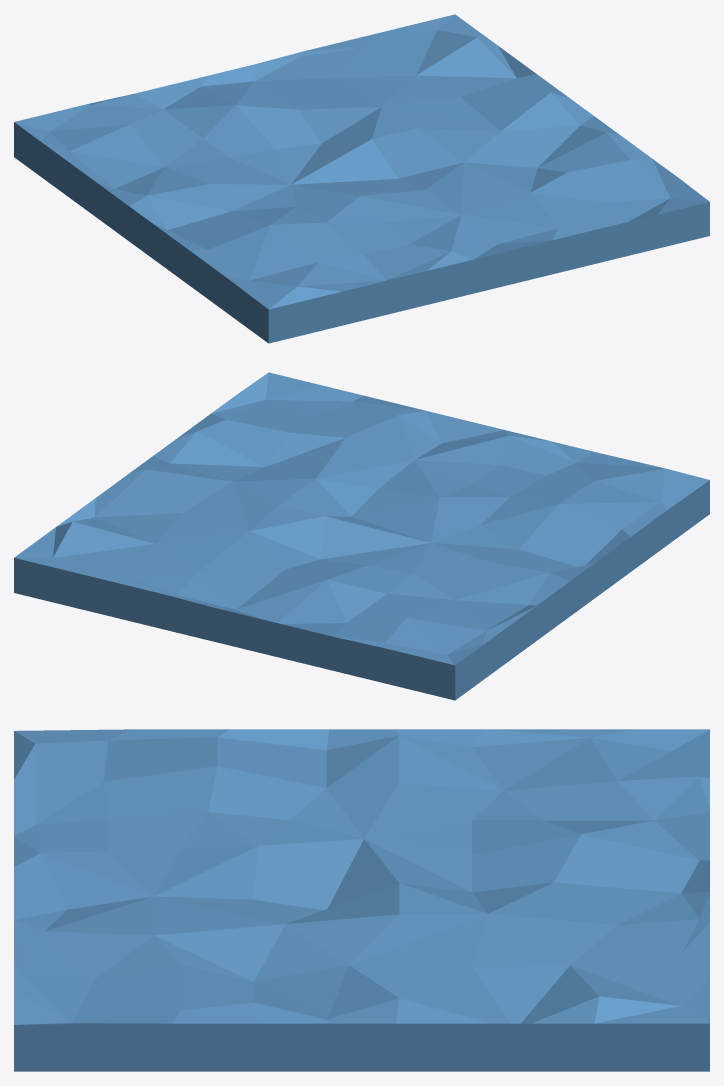
Rendered from Water.fbx.
The picture shows the model from 3 angles, top to bottom: view 1: azimuth 30°, elevation 25°; view 2: azimuth 150°, elevation 25°; view 3: azimuth 270°, elevation 25°; orthographic projection. The views are drawn at different scales.
Parts seen in each view (by area): view 1: Water; view 2: Water; view 3: Water.
Part boxes in pixels (<box>): Water: <box>14,14,709,343</box>; Water: <box>14,372,709,700</box>; Water: <box>14,729,709,1071</box>.
Size of the model in its own units: 200 by 19.99 by 200.
